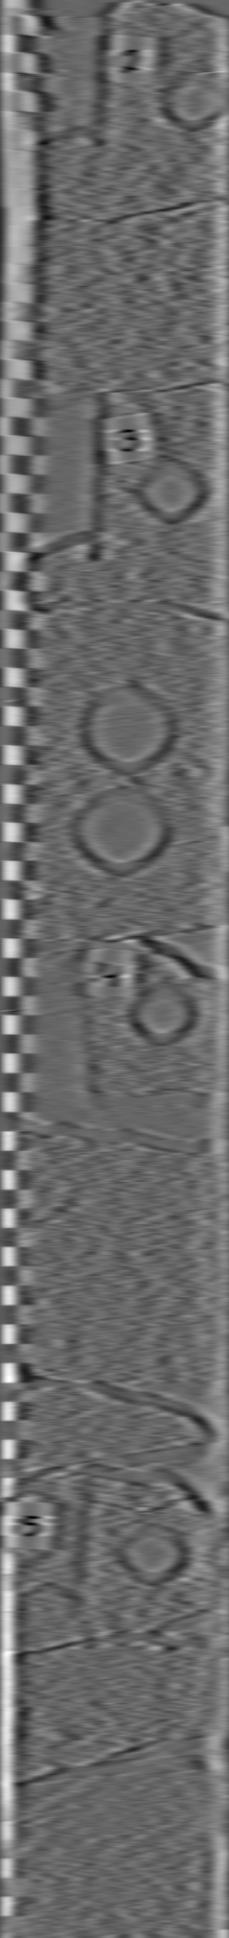hplug: (131, 450, 213, 528), (115, 1514, 196, 1589), (123, 976, 203, 1052), (155, 62, 229, 135)
scal: (73, 780, 175, 884), (79, 679, 179, 780)
vplug: (31, 378, 106, 572), (40, 14, 119, 154), (19, 1466, 93, 1608)
